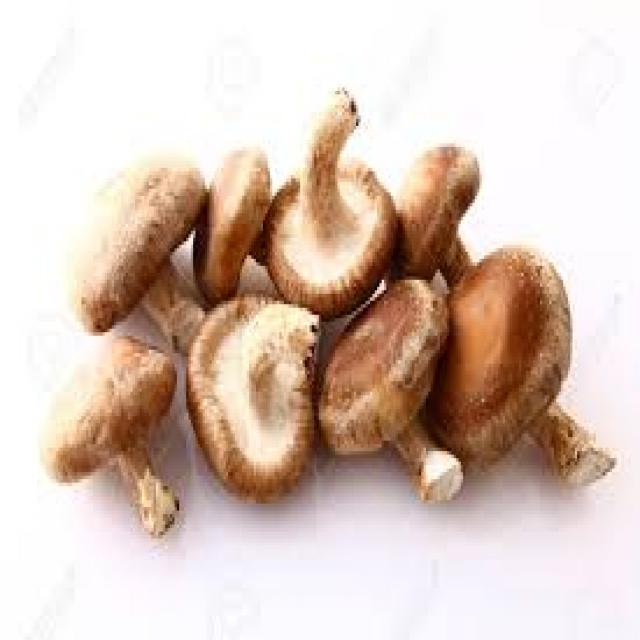Mushroom: (265, 91, 398, 318), (189, 297, 321, 502)
